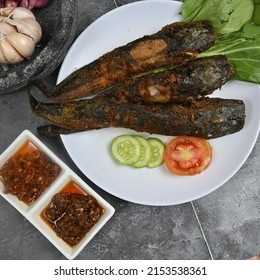pecel_lele: (17, 86, 251, 142)
